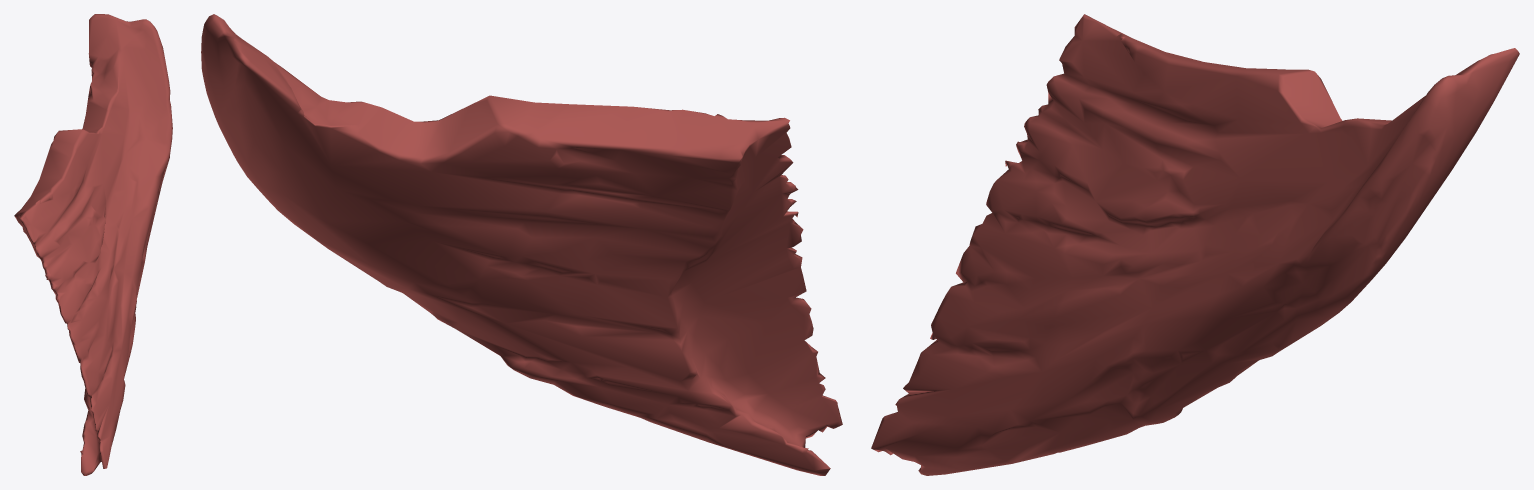
Rendered from FMA49023.glb.
The picture shows the model from 3 angles, left to right: view 1: azimuth 30°, elevation 25°; view 2: azimuth 150°, elevation 25°; view 3: azimuth 270°, elevation 25°; orthographic projection. The views are drawn at different scales.
Visible parts, largest first — view 1: FMA49023; view 2: FMA49023; view 3: FMA49023.
Part boxes in pixels (x1,y1,x2,y2): FMA49023: [14, 14, 172, 475]; FMA49023: [201, 14, 842, 475]; FMA49023: [871, 14, 1519, 475].
Bounding box in the file's own units: 0.0171 × 0.0218 × 0.0221.
